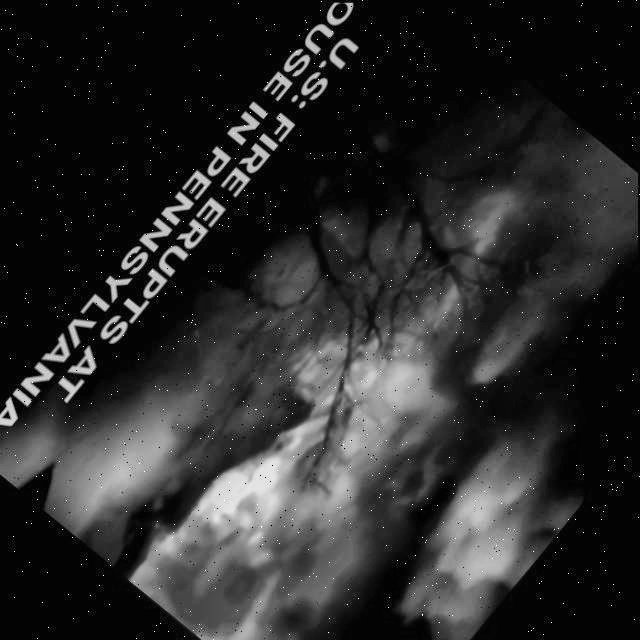Fire: (127, 202, 560, 640)
Smoke: (9, 0, 569, 610), (248, 242, 639, 640)
